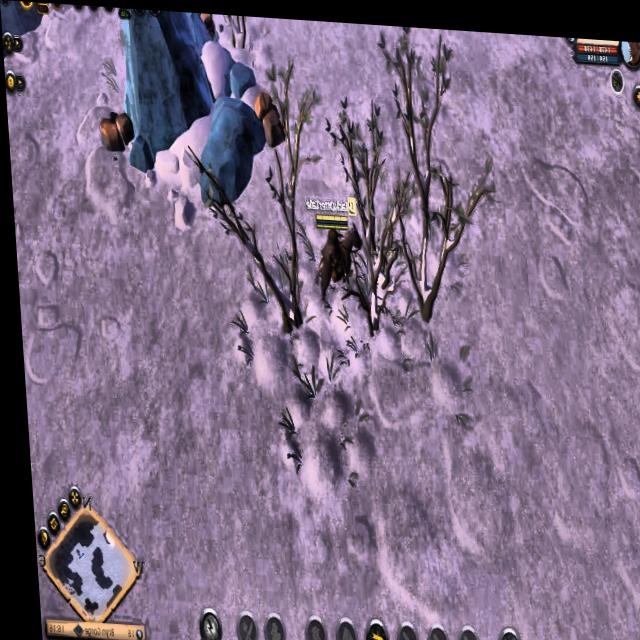limestone: (252, 86, 287, 148), (98, 99, 136, 148), (196, 10, 222, 48)
